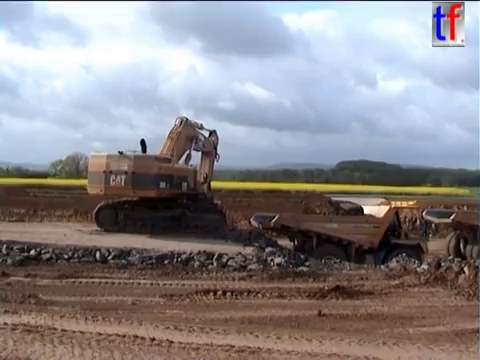excavator: (83, 114, 229, 238)
truck: (247, 198, 436, 287), (420, 207, 480, 269)
